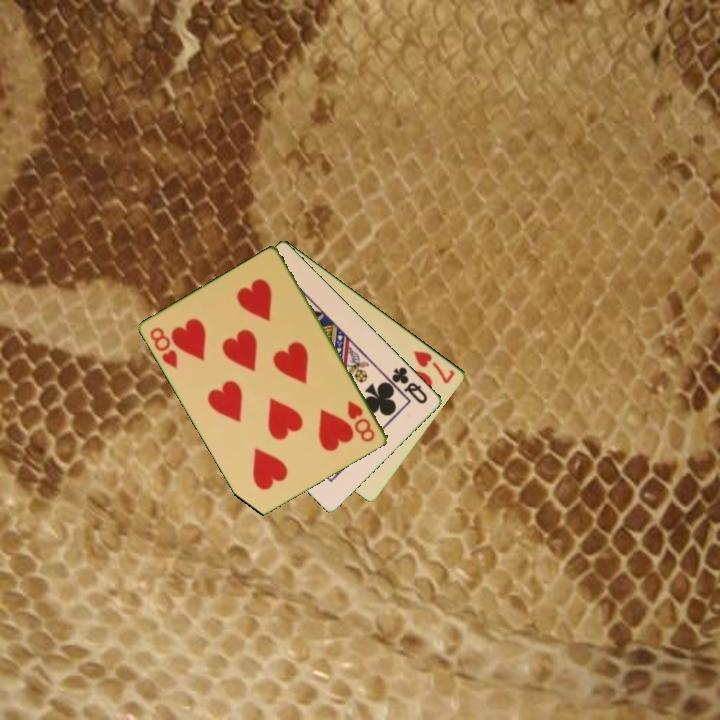7h: (410, 347, 458, 387)
8h: (344, 397, 378, 445), (147, 324, 181, 371)
Qc: (388, 363, 431, 407)
